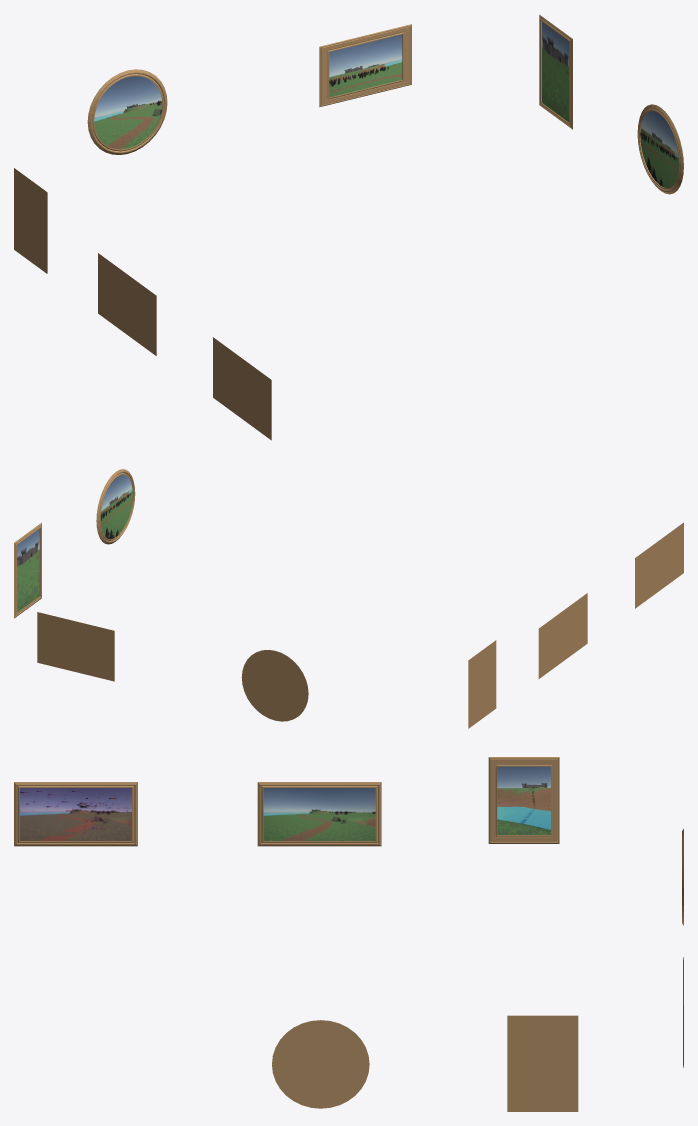
The model's file is Paint001.fbx.
3 renders of one model, top to bottom at view 1: azimuth 30°, elevation 25°; view 2: azimuth 150°, elevation 25°; view 3: azimuth 270°, elevation 25°, orthographic. The views are drawn at different scales.
Visible parts, largest first — view 1: Empty.009, Plane.005, Plane, Empty.005, Plane.002, Plane.004, Empty.007, Empty.011, Cylinder.002, Cylinder, Plane.003; view 2: Plane.004, Cylinder.002, Plane, Plane.005, Plane.002, Empty.007, Empty.011, Plane.003, Cylinder; view 3: Plane.003, Cylinder, Empty.001, Empty.013, Empty.003, Plane.002, Plane, Plane.005.
Part boxes in pixels (left/top/right/bottom): Empty.009: left=94, top=76, right=162, bottom=149; Plane.005: left=213, top=337, right=271, bottom=440; Plane: left=98, top=253, right=156, bottom=355; Empty.005: left=329, top=34, right=402, bottom=97; Plane.002: left=14, top=168, right=47, bottom=273; Plane.004: left=319, top=24, right=411, bottom=107; Empty.007: left=542, top=22, right=568, bottom=122; Empty.011: left=640, top=111, right=678, bottom=188; Cylinder.002: left=87, top=69, right=167, bottom=154; Cylinder: left=637, top=104, right=683, bottom=194; Plane.003: left=539, top=14, right=572, bottom=129; Plane.004: left=37, top=612, right=114, bottom=681; Cylinder.002: left=241, top=650, right=308, bottom=721; Plane: left=538, top=593, right=587, bottom=678; Plane.005: left=635, top=522, right=683, bottom=608; Plane.002: left=468, top=640, right=496, bottom=728; Empty.007: left=17, top=529, right=39, bottom=612; Empty.011: left=100, top=474, right=132, bottom=539; Plane.003: left=14, top=522, right=41, bottom=618; Cylinder: left=96, top=469, right=135, bottom=544; Plane.003: left=507, top=1015, right=578, bottom=1111; Cylinder: left=272, top=1020, right=369, bottom=1108; Empty.001: left=263, top=788, right=375, bottom=840; Empty.013: left=20, top=788, right=131, bottom=840; Empty.003: left=497, top=766, right=550, bottom=834; Plane.002: left=488, top=757, right=559, bottom=843; Plane: left=257, top=782, right=381, bottom=846; Plane.005: left=14, top=782, right=137, bottom=846.
Bounding box in the file's own units: 1843 × 332 × 1889.
Materials: 8 (7 with a texture image).
